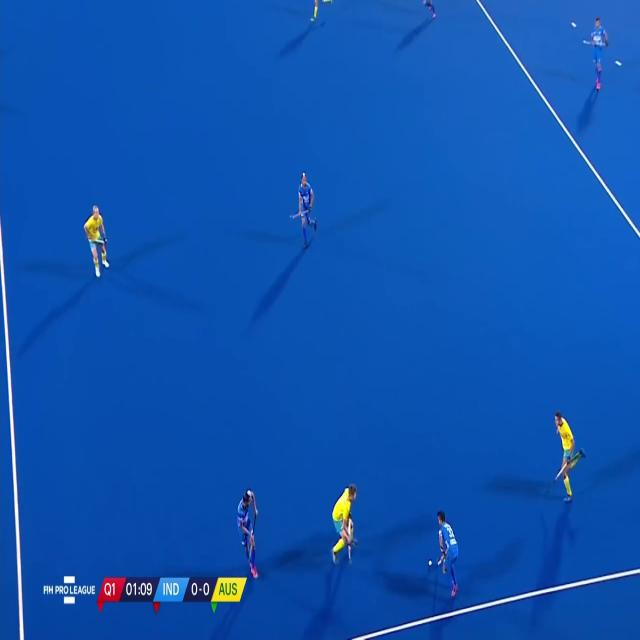ball: (427, 558, 435, 570)
